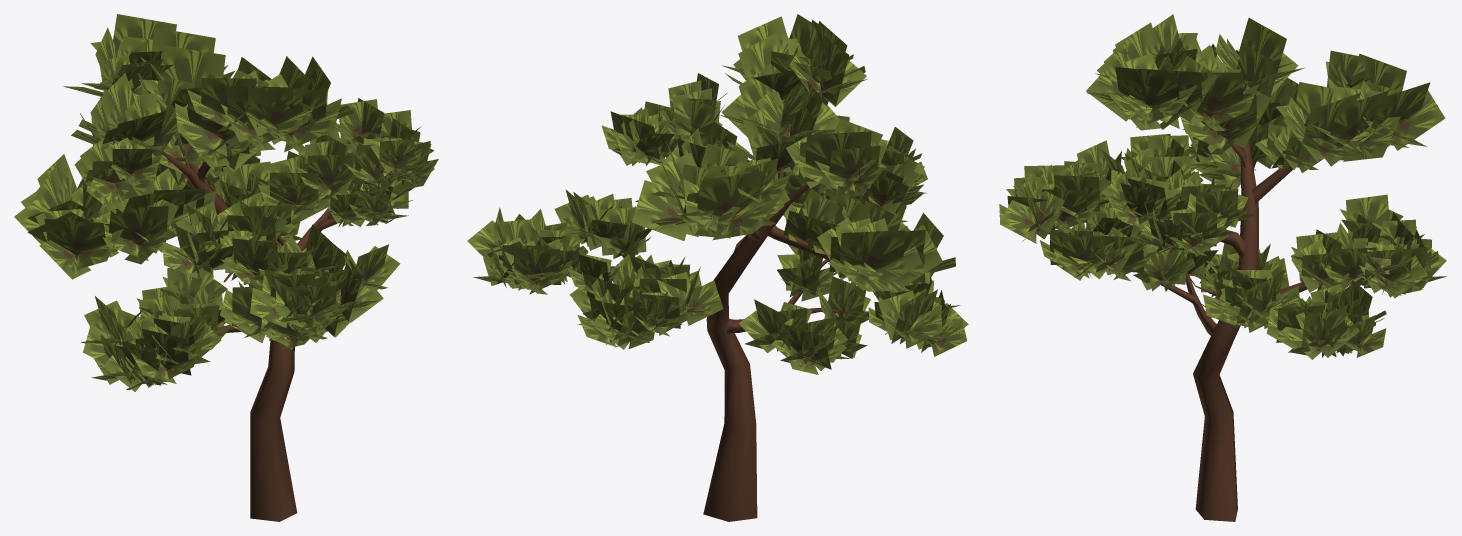
File: Pine_Tree_2.fbx
The picture shows the model from 3 angles, left to right: view 1: azimuth 30°, elevation 25°; view 2: azimuth 150°, elevation 25°; view 3: azimuth 270°, elevation 25°; orthographic projection. The views are drawn at different scales.
Parts seen in each view (by area): view 1: Pine_Tree_2; view 2: Pine_Tree_2; view 3: Pine_Tree_2.
Part boxes in pixels (x1,y1,x2,y2): Pine_Tree_2: [14, 14, 438, 521]; Pine_Tree_2: [467, 14, 968, 521]; Pine_Tree_2: [999, 14, 1447, 521].
Bounding box in the file's own units: 666 × 682 × 614.
Materials: 2 (2 with a texture image).
